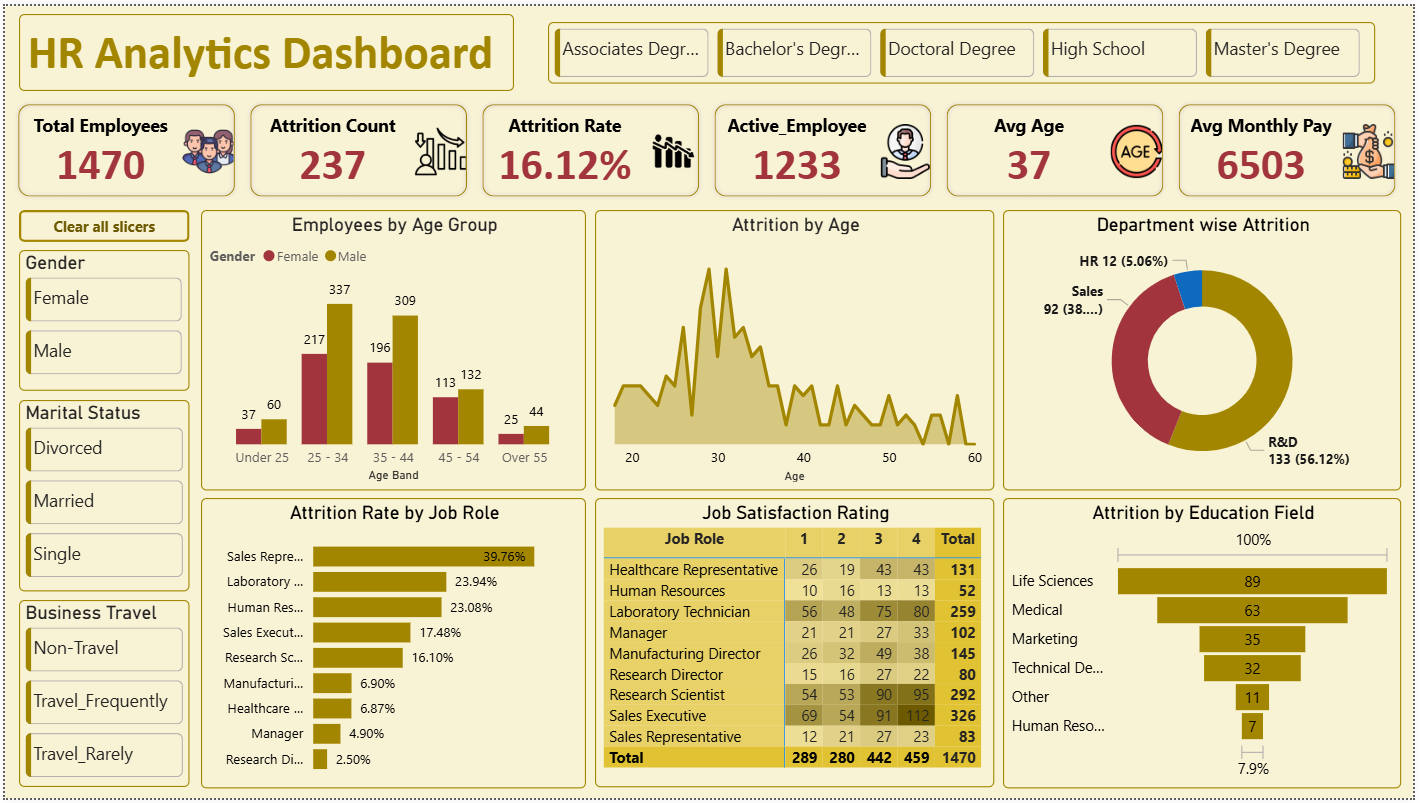

This screenshot's page, from the dashboard's own definition file:
{"tool":"powerbi","page":{"name":"Dashboard","canvas":[1280,720],"ordinal":0},"visuals":[{"type":"clusteredColumnChart","title":"Employees by Age Group","fields":{"Category":["HR data.CF_age band"],"Series":["HR data.Gender"],"Y":["HR data.Total_Employee"]},"box":[178,185,350,255],"z":0},{"type":"clusteredBarChart","title":"Attrition Rate by Job Role","fields":{"Category":["HR data.Job Role"],"Y":["HR data.Attrition_Rate"]},"box":[178,447,350,264],"z":1000},{"type":"lineChart","title":"Attrition by Age","fields":{"Category":["HR data.Age"],"Y":["HR data.Total_Attrition"]},"box":[536,185,363,255],"z":2000},{"type":"pivotTable","title":"Job Satisfaction Rating","fields":{"Columns":["HR data.Job Satisfaction"],"Rows":["HR data.Job Role"],"Values":["HR data.Total_Employee"]},"box":[536,447,363,263],"z":3000},{"type":"donutChart","title":" Department wise Attrition","fields":{"Category":["HR data.Department"],"Y":["HR data.Total_Attrition"]},"box":[907,185,362,255],"z":4000},{"type":"funnel","title":"Attrition by Education Field","fields":{"Category":["HR data.Education Field"],"Y":["HR data.Total_Attrition"]},"box":[907,447,362,264],"z":5000},{"type":"advancedSlicerVisual","fields":{"Values":["HR data.Education"]},"box":[493.6,14.5,751.8,56.4],"z":6000},{"type":"advancedSlicerVisual","fields":{"Values":["HR data.Gender"]},"box":[12.7,222.3,154.6,127.6],"z":7000},{"type":"advancedSlicerVisual","fields":{"Values":["HR data.Business Travel"]},"box":[13,540,155,170],"z":8000},{"type":"textbox","box":[12.7,7.3,450,70],"z":9000},{"type":"cardVisual","fields":{"Data":["HR data.Total_Employee","HR data.Total_Attrition","HR data.Attrition_Rate","HR data.Active_Employee","Avg(HR data.Age)","Avg(HR data.Monthly Income)"]},"box":[0,77.3,1280,108.2],"z":10000},{"type":"advancedSlicerVisual","fields":{"Values":["HR data.Marital Status"]},"box":[13,358,155,174],"z":11000},{"type":"actionButton","box":[13,185,155,29],"z":12000}]}

Visuals, with their boxes in screenshot pixels (x1, y1, x2, y2), scaled from the page's 1280x720 canvas onto the 1420x803 screenshot:
"Employees by Age Group" clusteredColumnChart: box(197, 206, 586, 491)
"Attrition Rate by Job Role" clusteredBarChart: box(197, 499, 586, 793)
"Attrition by Age" lineChart: box(595, 206, 997, 491)
"Job Satisfaction Rating" pivotTable: box(595, 499, 997, 792)
" Department wise Attrition" donutChart: box(1006, 206, 1408, 491)
"Attrition by Education Field" funnel: box(1006, 499, 1408, 793)
advancedSlicerVisual - HR data.Education: box(548, 16, 1382, 79)
advancedSlicerVisual - HR data.Gender: box(14, 248, 186, 390)
advancedSlicerVisual - HR data.Business Travel: box(14, 602, 186, 792)
textbox: box(14, 8, 513, 86)
cardVisual - HR data.Total_Employee x HR data.Total_Attrition: box(0, 86, 1419, 207)
advancedSlicerVisual - HR data.Marital Status: box(14, 399, 186, 593)
actionButton: box(14, 206, 186, 239)
